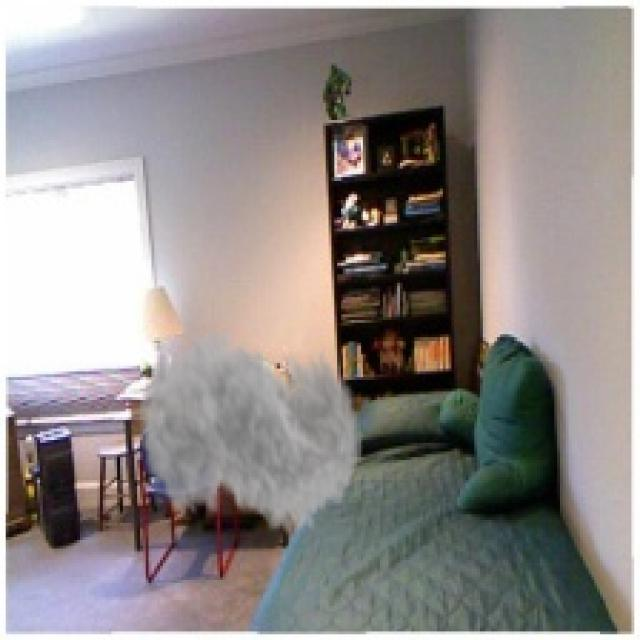smoke: (137, 309, 363, 560)
